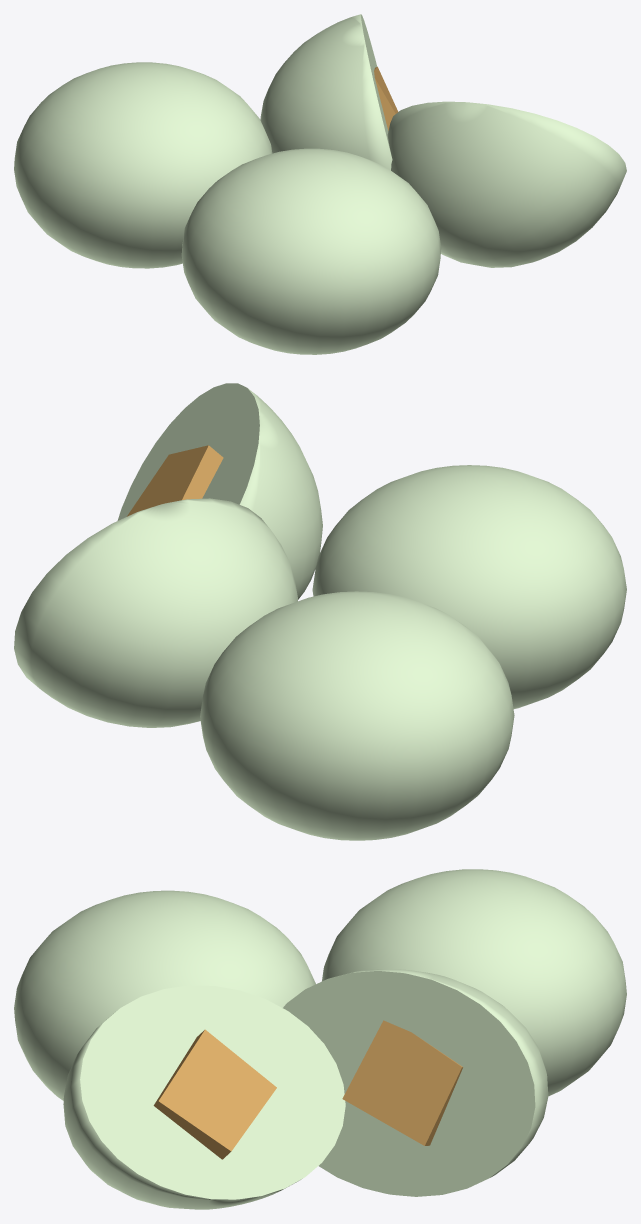
Rendered from undercookedondeh1.fbx.
3 views of the same model, one above another, from view 1: azimuth 30°, elevation 25°; view 2: azimuth 150°, elevation 25°; view 3: azimuth 270°, elevation 25° (orthographic). The views are drawn at different scales.
Parts seen in each view (by area): view 1: Sphere.099, Sphere.101, Sphere.137, Sphere.098, Cube.006; view 2: Sphere.101, Sphere.099, Sphere.098, Sphere.137, Cube.007; view 3: Sphere.137, Sphere.101, Sphere.098, Sphere.099, Cube.006, Cube.007.
Part boxes in pixels (x1,y1,x2,y2): Sphere.099: [181, 148, 441, 354]; Sphere.101: [14, 62, 272, 268]; Sphere.137: [387, 101, 626, 267]; Sphere.098: [260, 14, 392, 170]; Cube.006: [374, 67, 398, 130]; Sphere.101: [200, 591, 514, 840]; Sphere.099: [312, 465, 626, 708]; Sphere.098: [14, 498, 297, 727]; Sphere.137: [117, 383, 322, 599]; Cube.007: [127, 445, 223, 516]; Sphere.137: [63, 985, 345, 1209]; Sphere.101: [322, 869, 626, 1096]; Sphere.098: [283, 969, 548, 1196]; Sphere.099: [14, 890, 315, 1100]; Cube.006: [342, 1020, 463, 1145]; Cube.007: [153, 1029, 276, 1159].
Size of the model in its own units: 128 by 53.76 by 130.
